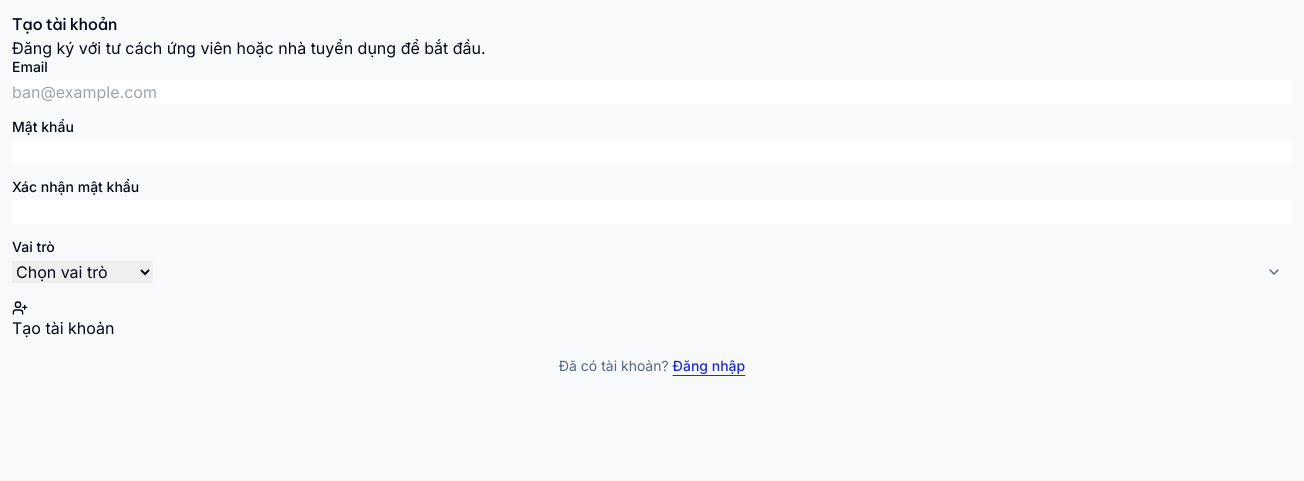
Test: RegisterPage › shows invalid email error
The width and height of the screenshot is (1304, 481).
In the field labelled "Email": (652, 92) [12,80,1292,104], type "not-an-email"
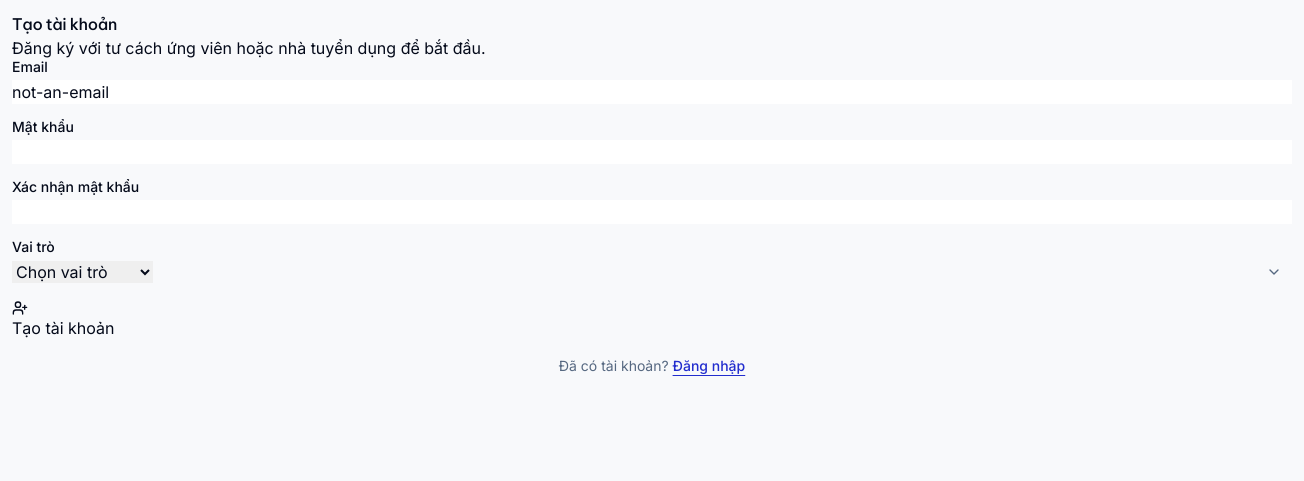
Click the button "Tạo tài khoản": (63, 320) [12,300,114,340]
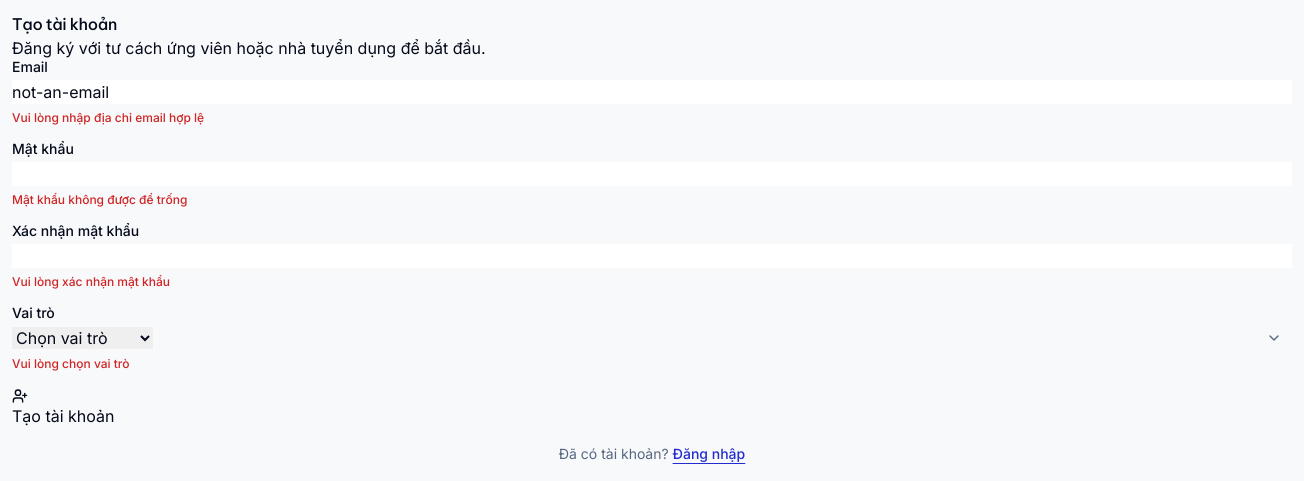
Now the text "Vui lòng nhập địa chỉ email hợp lệ" is shown, box [12,110,204,125]
